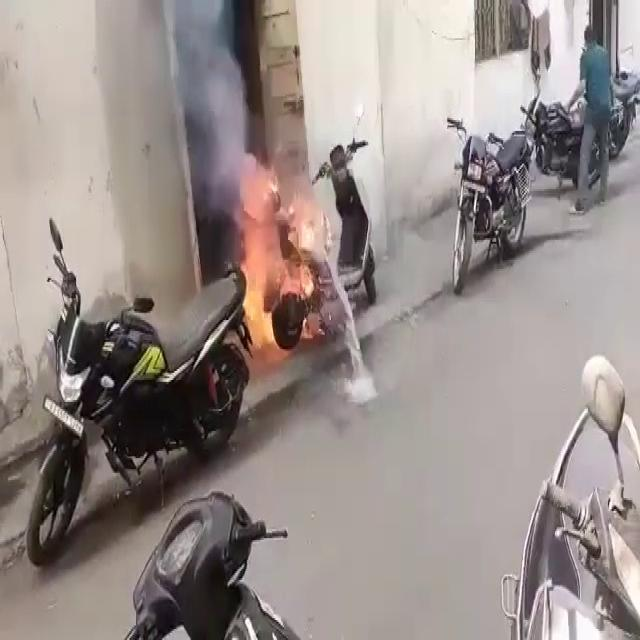Fire: (232, 151, 324, 362)
Smoke: (168, 0, 252, 215), (526, 0, 591, 111)
